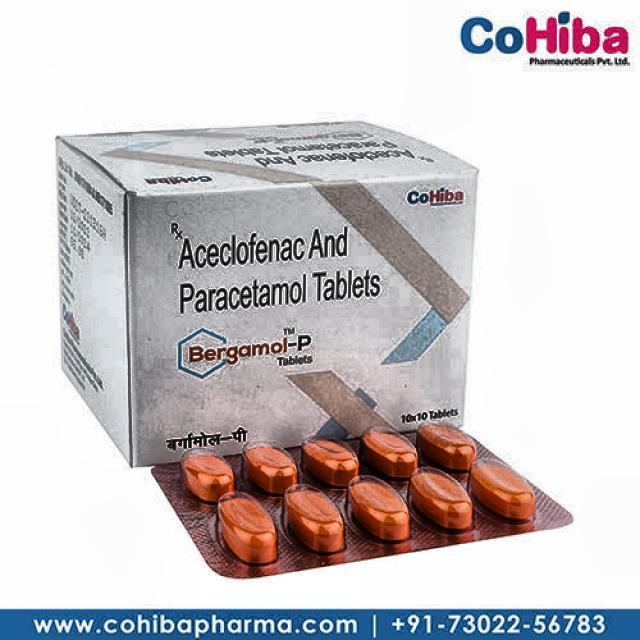Paracetamol: (156, 216, 414, 328)
